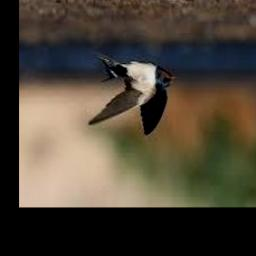Swallow: (88, 52, 176, 136)
